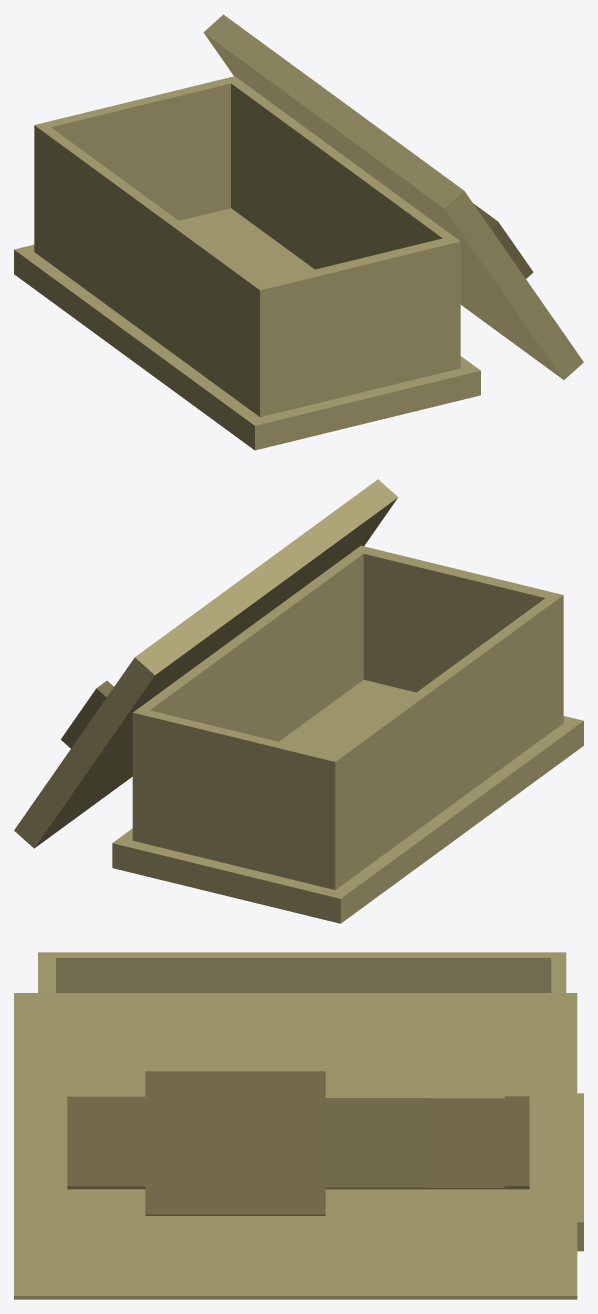
File: Temple Tomb open.fbx
3 views of the same model, one above another, from view 1: azimuth 30°, elevation 25°; view 2: azimuth 150°, elevation 25°; view 3: azimuth 270°, elevation 25° (orthographic). The views are drawn at different scales.
Visible parts, largest first — view 1: Tomb Open; view 2: Tomb Open; view 3: Tomb Open.
Part boxes in pixels (x1,y1,x2,y2): Tomb Open: (14,14,583,450); Tomb Open: (14,479,583,923); Tomb Open: (14,952,583,1299).
Bounding box in the file's own units: 412 × 258 × 533.
